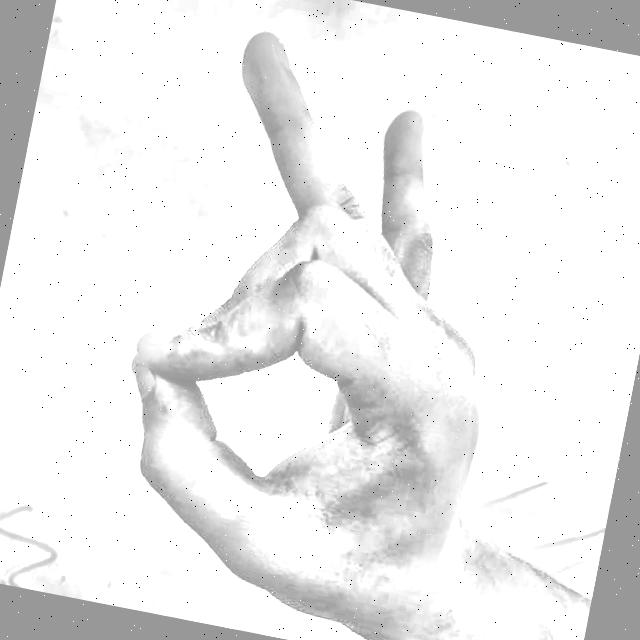Na: (39, 0, 588, 640)
